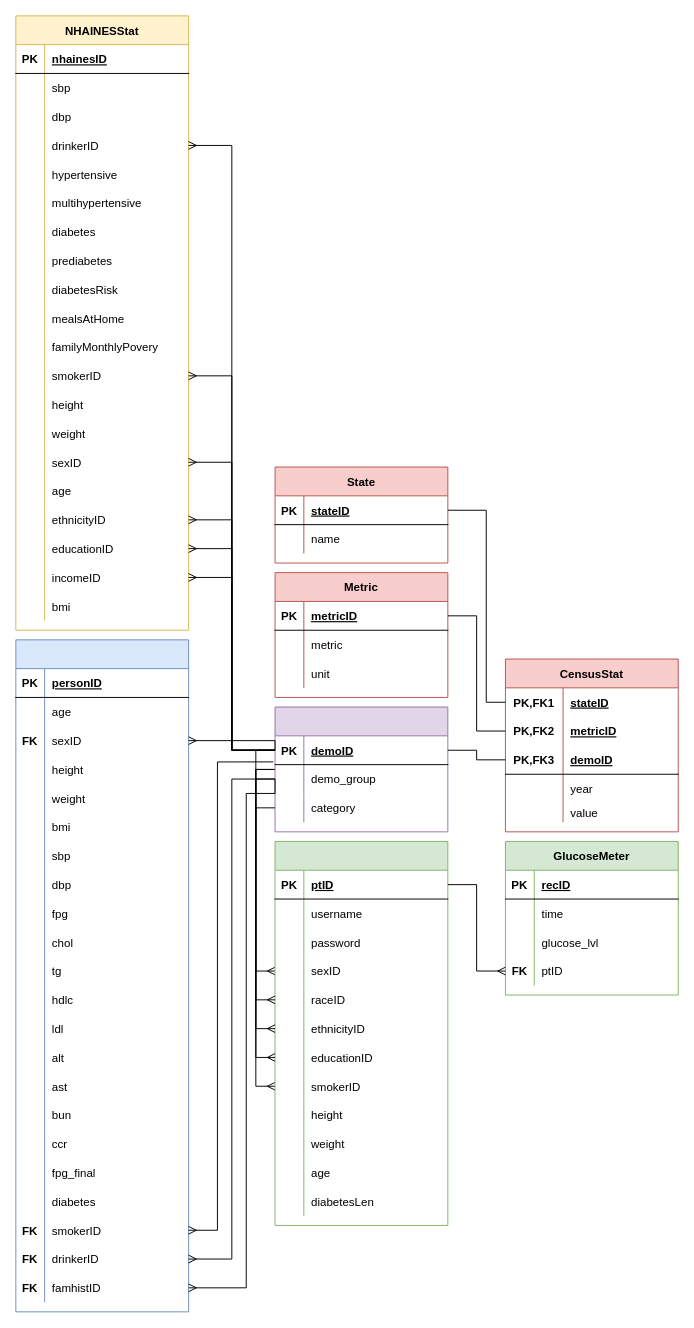
The diagram is 694 pixels wide and 1328 high, and some of its shapes have lost their labels. The box of each missing label's shape, as (x1, y1, x2, y2) in pixels:
Demographic: (274, 706, 448, 832)
DiabetesPop: (15, 639, 189, 1312)
Patient: (274, 840, 448, 1225)
